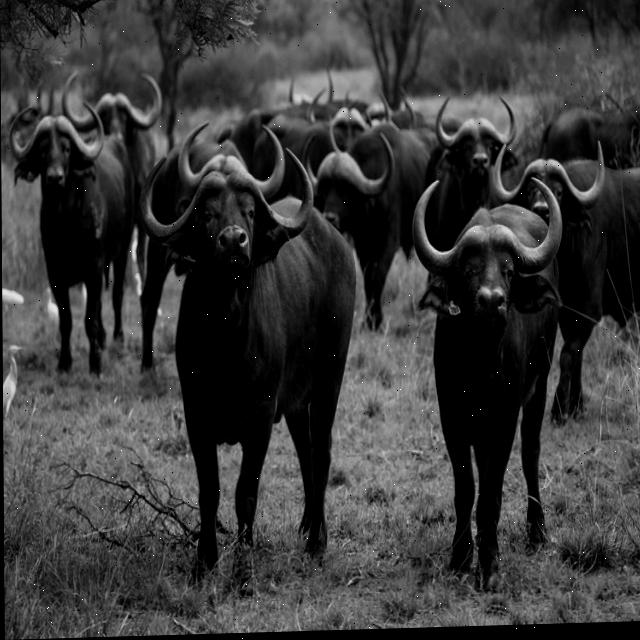Buffalo: (140, 147, 359, 605), (412, 177, 567, 593), (490, 139, 640, 436), (8, 100, 139, 396), (303, 124, 432, 339), (424, 95, 519, 290)
